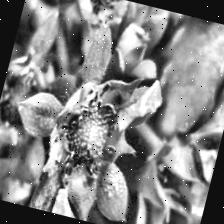Blossom Blight: (37, 68, 134, 198)
